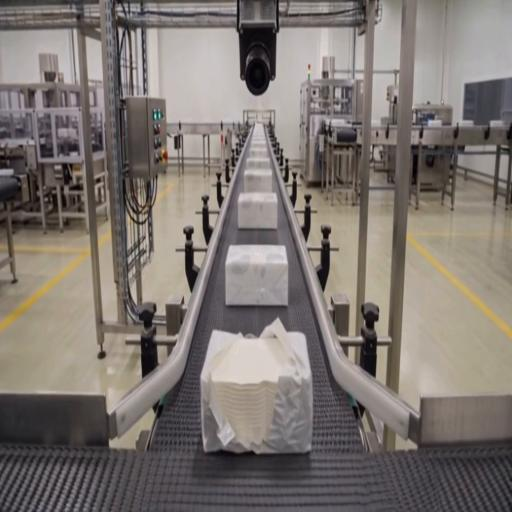defective: (201, 324, 312, 454)
good: (225, 244, 289, 307), (236, 192, 280, 230), (242, 169, 273, 193), (246, 148, 270, 168), (249, 124, 268, 139)
